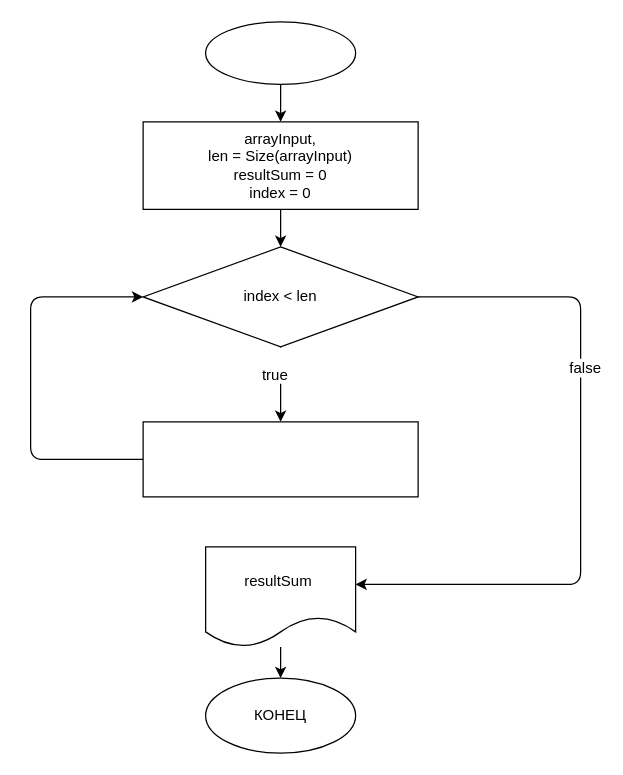
Image size: 623x775. Some labels were removed from this diagram. The shapes that lost their labels are listed below. From the top down, each one's centre as x and y in pixels, then its label:
pixel 280 52: НАЧАЛО
pixel 280 459: resultSum += arrayInput[index] index += 1
